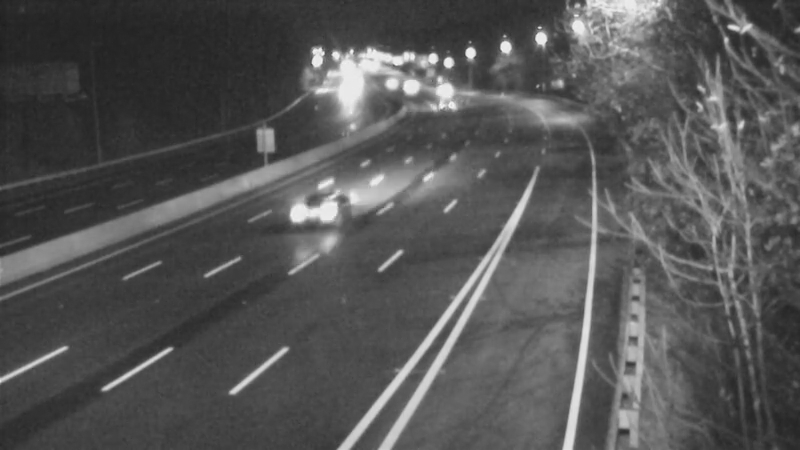vehicle: (272, 164, 352, 244), (363, 60, 413, 110), (384, 61, 434, 111), (417, 64, 467, 114), (421, 79, 471, 129), (321, 72, 371, 122)
